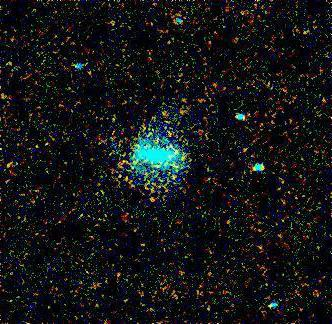star: (138, 187, 168, 217)
